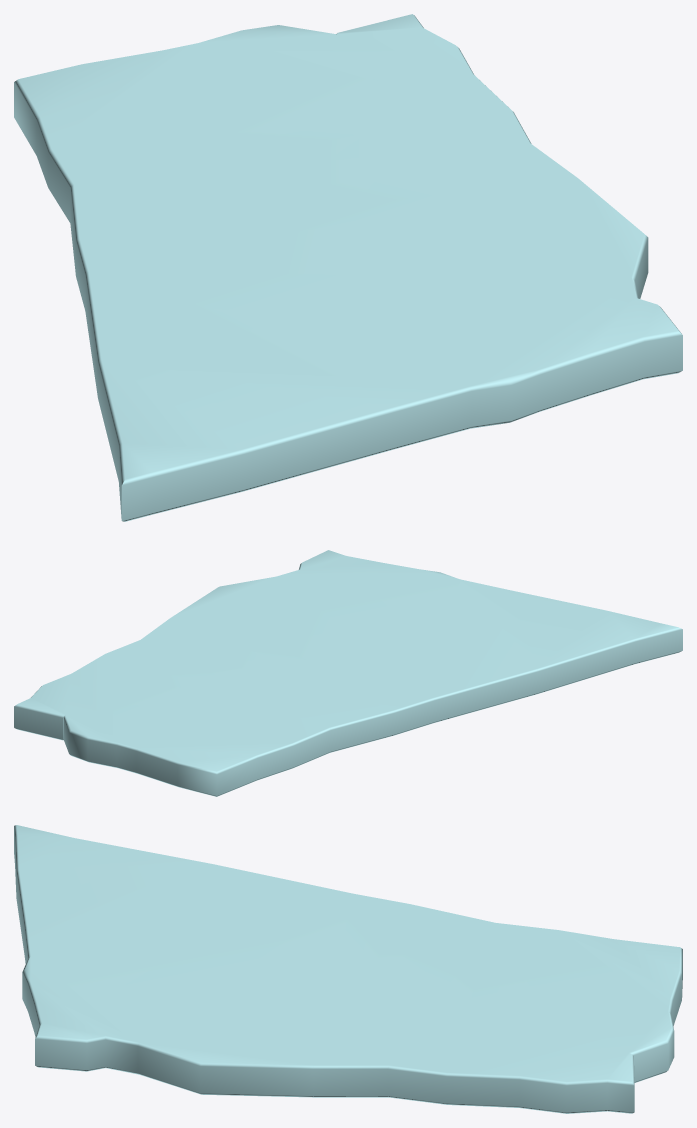
Rendered from ice_floe_large_007.fbx.
The picture shows the model from 3 angles, top to bottom: view 1: azimuth 30°, elevation 25°; view 2: azimuth 150°, elevation 25°; view 3: azimuth 270°, elevation 25°; orthographic projection. The views are drawn at different scales.
Visible parts, largest first — view 1: ice_floe_large_007; view 2: ice_floe_large_007; view 3: ice_floe_large_007.
Boxes of the visible parts, x1,y1,x2,y2 form: ice_floe_large_007: (14,14,682,521); ice_floe_large_007: (14,550,682,796); ice_floe_large_007: (14,825,682,1113).
Size of the model in its own units: 1736 by 1888 by 101.
